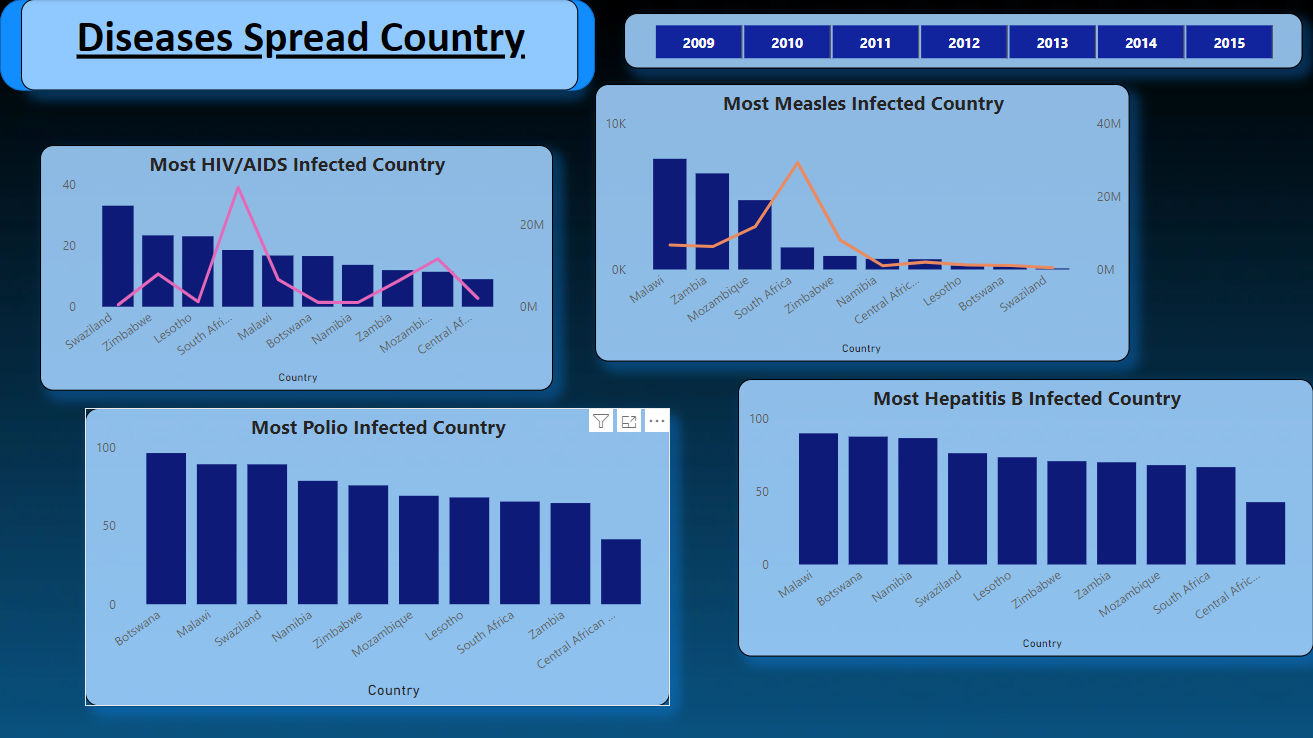

The dashboard page shown, as its layout file describes it:
{"tool":"powerbi","page":{"name":"Diseases by Country","canvas":[1280,720],"ordinal":3},"visuals":[{"type":"group","id":"g1","title":"Group 1","box":[1.9,0,578.7,89.5],"z":0},{"type":"slicer","fields":{"Values":["Life Expectancy Data.Year"]},"box":[608.9,13.6,660.4,54.5],"z":1000},{"type":"lineStackedColumnComboChart","title":"Most HIV/AIDS Infected Country","fields":{"Category":["Life Expectancy Data.Country"],"Y":["Avg(Life Expectancy Data. HIV/AIDS)"],"Y2":["Avg(Life Expectancy Data.Population)"]},"box":[40.9,142,499,239.3],"z":2000},{"type":"lineStackedColumnComboChart","title":"Most Measles Infected Country","fields":{"Category":["Life Expectancy Data.Country"],"Y":["Avg(Life Expectancy Data.Measles )"],"Y2":["Avg(Life Expectancy Data.Population)"]},"box":[580.7,82.7,520.4,270.4],"z":3000},{"type":"columnChart","title":"Most Polio Infected Country","fields":{"Category":["Life Expectancy Data.Country"],"Y":["Avg(Life Expectancy Data.Polio)"]},"box":[84.6,397.8,569,289.8],"z":4000},{"type":"columnChart","title":"Most Hepatitis B Infected Country","fields":{"Category":["Life Expectancy Data.Country"],"Y":["Avg(Life Expectancy Data.Hepatitis B)"]},"box":[719.8,369.6,560.2,270.4],"z":5000},{"type":"shape","box":[1.9,0,578.7,89.5],"z":7000,"group":"g1"},{"type":"textbox","box":[22.4,0,542.3,89.5],"z":8000,"group":"g1"}]}

Visuals, with their boxes in screenshot pixels (x1, y1, x2, y2), scaled from the page's 1280x720 canvas onto the 1313x738 screenshot:
"Group 1" group: crop(2, 0, 596, 92)
slicer - Life Expectancy Data.Year: crop(625, 14, 1302, 70)
"Most HIV/AIDS Infected Country" lineStackedColumnComboChart: crop(42, 146, 554, 391)
"Most Measles Infected Country" lineStackedColumnComboChart: crop(596, 85, 1129, 362)
"Most Polio Infected Country" columnChart: crop(87, 408, 670, 705)
"Most Hepatitis B Infected Country" columnChart: crop(738, 379, 1312, 656)
shape: crop(2, 0, 596, 92)
textbox: crop(23, 0, 579, 92)
